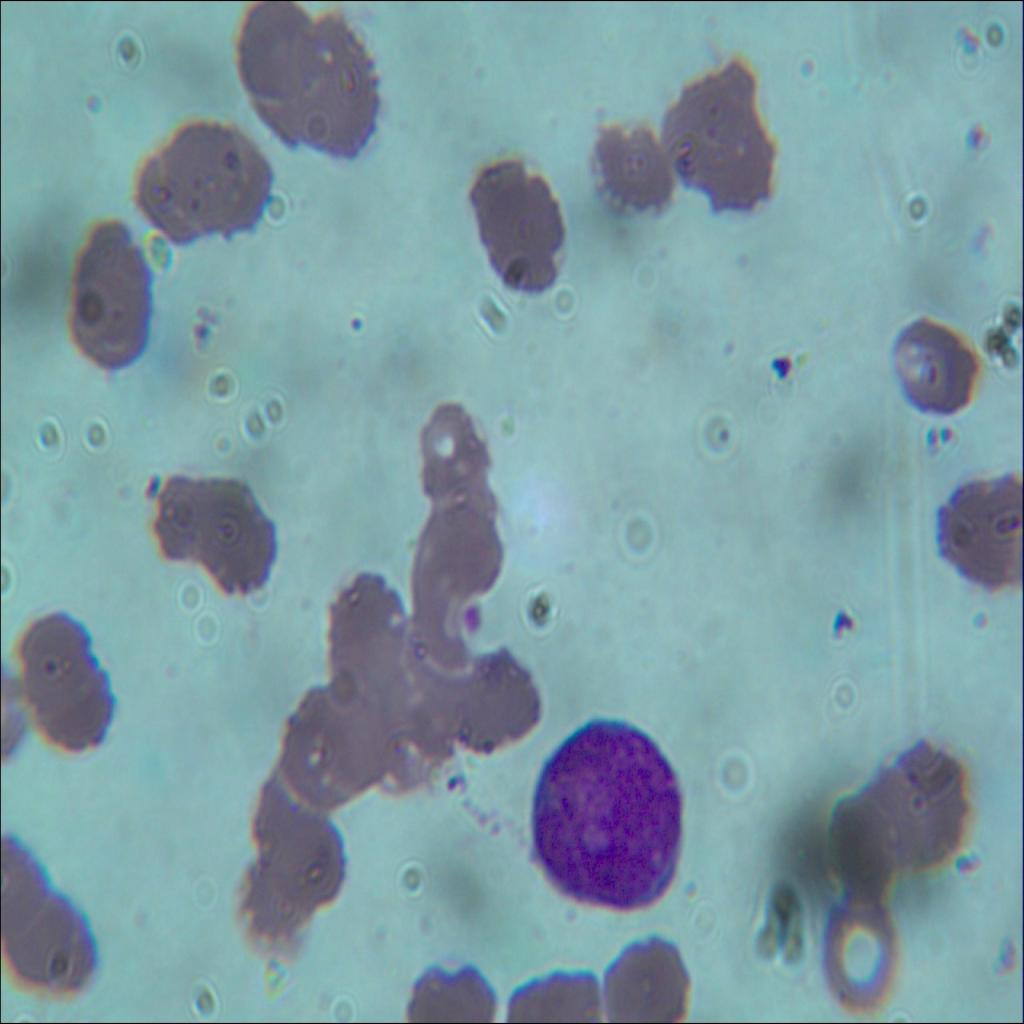Eritrosit: (662, 61, 784, 214), (460, 156, 566, 292), (284, 14, 382, 159), (241, 815, 342, 950), (16, 609, 111, 749), (66, 221, 154, 369), (322, 569, 412, 707), (375, 644, 471, 769), (281, 685, 381, 804), (176, 120, 275, 236), (408, 500, 506, 614), (450, 645, 542, 765), (934, 465, 1023, 589), (874, 738, 963, 859), (580, 118, 674, 228), (233, 2, 322, 111), (8, 891, 98, 997), (409, 392, 491, 506), (893, 312, 980, 419), (818, 897, 894, 1011), (206, 479, 278, 598), (601, 928, 690, 1023), (136, 135, 215, 239), (246, 778, 330, 868), (146, 472, 224, 564), (826, 798, 890, 897), (0, 840, 50, 948), (995, 939, 1015, 977)
Limfoblast: (526, 719, 686, 914)
Platelet: (766, 342, 796, 392), (828, 604, 860, 644), (458, 602, 484, 639), (934, 415, 960, 452), (138, 467, 158, 505), (346, 312, 368, 344), (920, 424, 940, 454), (970, 606, 990, 632)
